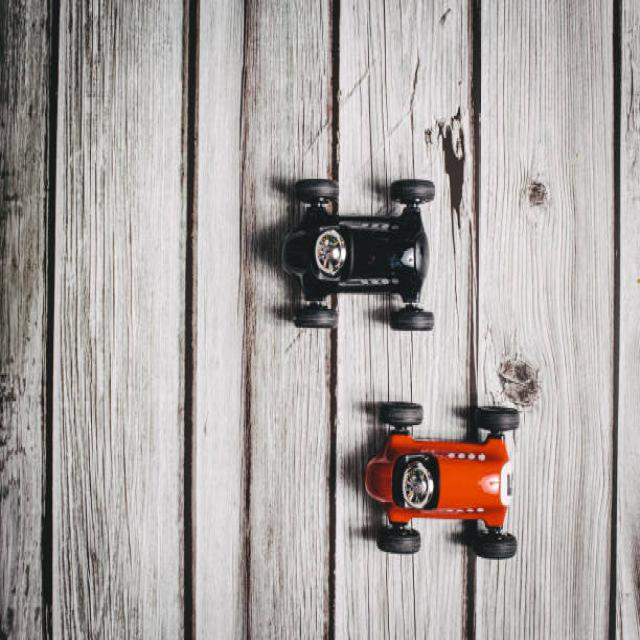Car: (364, 400, 520, 558), (280, 174, 435, 331)
